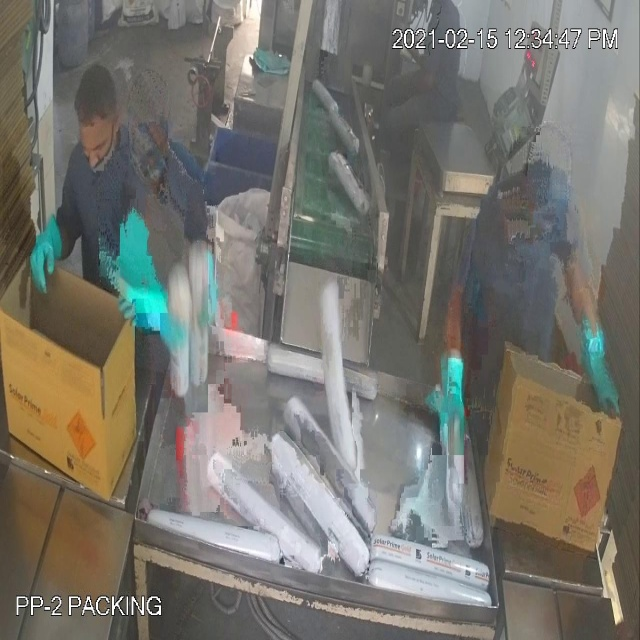Guantes: (572, 289, 627, 426), (429, 334, 474, 467), (15, 202, 67, 303)
Sin_guantes: (384, 55, 435, 107)
